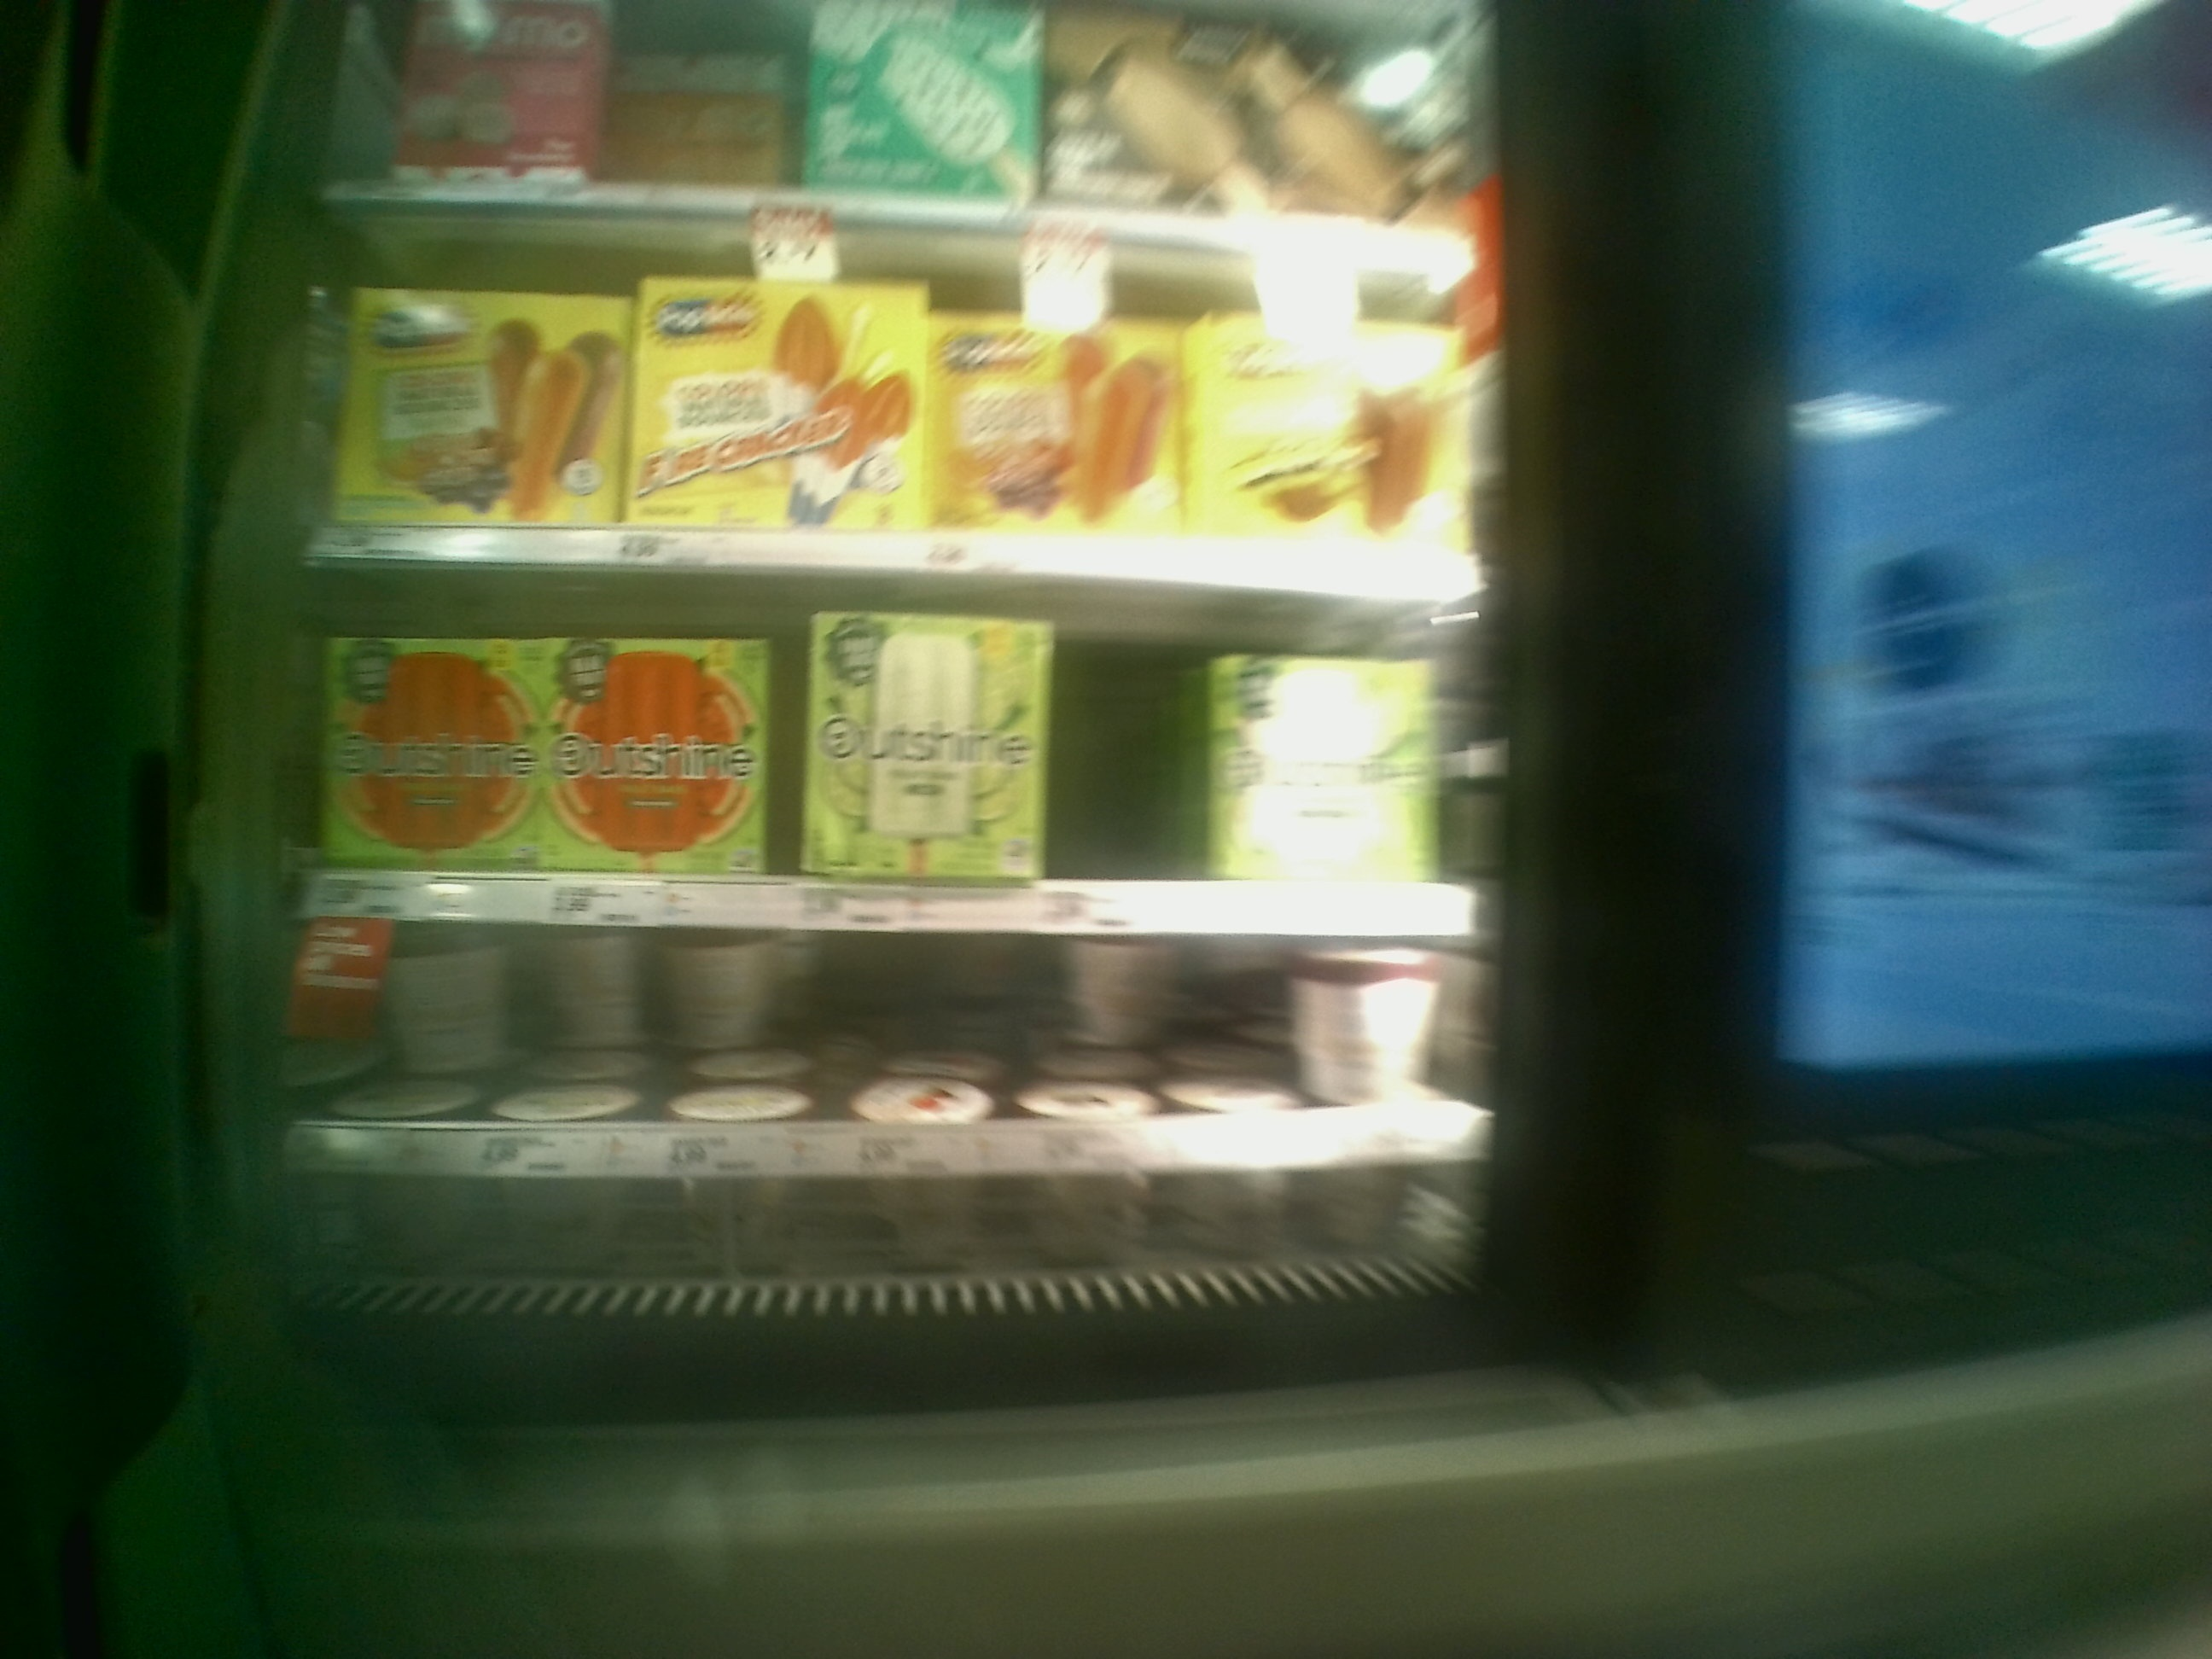ice-cream-shelf: (314, 199, 1480, 582), (310, 572, 1484, 939), (301, 927, 1498, 1171)
